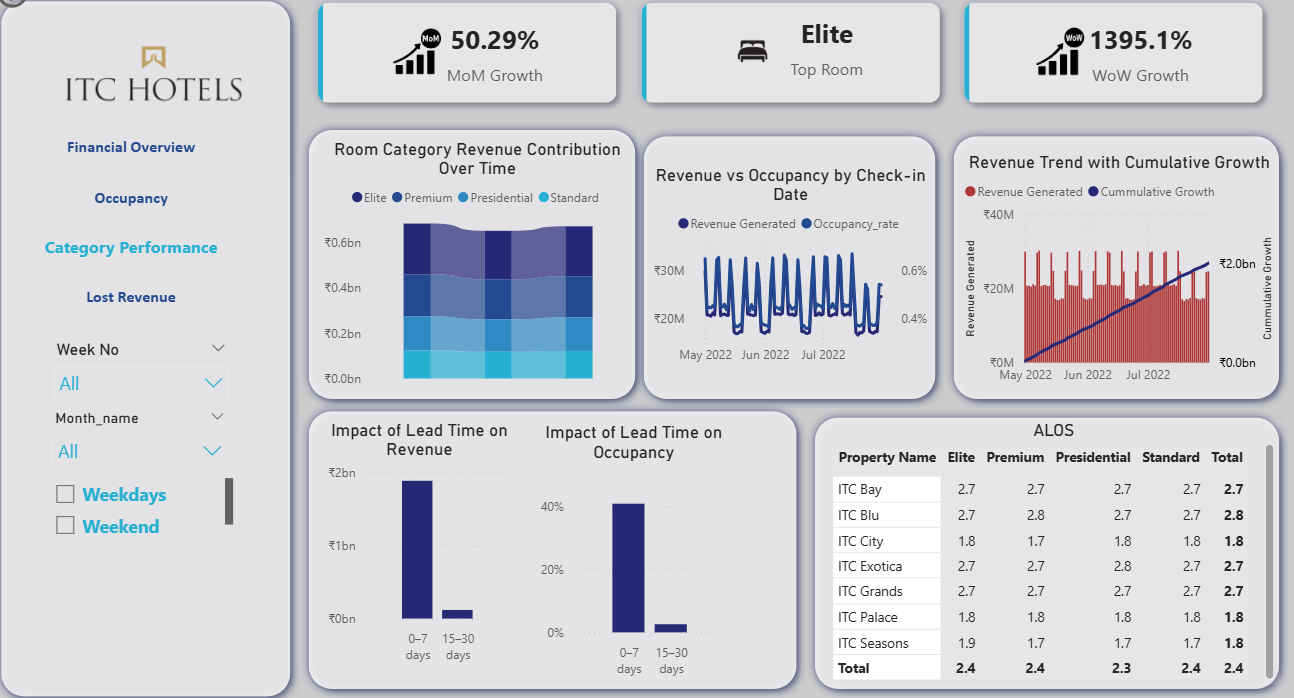

What the dashboard file says about the page in this screenshot:
{"tool":"powerbi","page":{"name":"Category Performance","canvas":[1280,720],"ordinal":2},"visuals":[{"type":"shape","box":[630.7,152.1,304.3,276.1],"z":0},{"type":"shape","box":[935,152.1,337.4,276.1],"z":1000},{"type":"shape","box":[798.8,428.2,473.6,284.7],"z":2000},{"type":"shape","box":[301.8,422.1,496.9,290.8],"z":3000},{"type":"shape","box":[301.8,146,338.7,282.2],"z":4000},{"type":"shape","box":[0,19.6,301.8,700.6],"z":5000},{"type":"actionButton","box":[0,0,100,40],"z":7000},{"type":"slicer","fields":{"Values":["Calendar.day_type"]},"box":[50.3,492,191.4,67.5],"z":8000},{"type":"slicer","fields":{"Values":["Calendar.Month_name"]},"box":[49.1,424.5,191.4,67.5],"z":9000},{"type":"slicer","fields":{"Values":["Calendar.Week_no"]},"box":[50.3,357.1,191.4,67.5],"z":10000},{"type":"pageNavigator","box":[22.1,152.1,229.4,186.5],"z":11000},{"type":"image","box":[49.1,0,220.9,198.8],"z":12000},{"type":"lineChart","title":"Revenue vs Occupancy by Check-in Date","fields":{"Category":["Bookings.check_in_date"],"Y":["Sum(Bookings.revenue_generated)"],"Y2":["dax.Occupancy_rate"]},"box":[644.2,189,279.8,204.9],"z":16000},{"type":"columnChart","title":"Impact of Lead Time on Revenue","fields":{"Y":["Sum(Bookings.revenue_generated)"],"Category":["Bookings.LeadTime_Bucket"]},"box":[325.2,439.3,189,246.6],"z":17000},{"type":"lineClusteredColumnComboChart","title":"Revenue Trend with Cumulative Growth","fields":{"Category":["Calendar.Date"],"Y2":["dax.running_total"],"Y":["dax.Revenue_generated"]},"box":[949.7,176.7,314.1,236.8],"z":18000},{"type":"ribbonChart","title":"Room Category Revenue Contribution Over Time","fields":{"Series":["rooms.room_class"],"Y":["Sum(Bookings.revenue_generated)"],"Category":["Calendar.Month_name"]},"box":[321.2,163.8,310,250],"z":19000},{"type":"columnChart","title":"Impact of Lead Time on Occupancy","fields":{"Y":["dax.Occupancy_rate"],"Category":["Bookings.LeadTime_Bucket"]},"box":[533.7,441.7,192.6,257.7],"z":20000},{"type":"pivotTable","title":"ALOS","fields":{"Columns":["rooms.room_class"],"Values":["dax.ALOS"],"Rows":["Hotels.property_name"]},"box":[823.3,439.3,440.5,260.1],"z":21000},{"type":"cardVisual","fields":{"Data":["dax.mom_growth","dax.top_room_class","dax.wow_growth"]},"box":[303.1,13.5,962,132.5],"z":22000}]}

Visuals, with their boxes on the page's 1280x720 design canvas (x1, y1, x2, y2). These are canvas units, not pixel positions in the 1294x698 screenshot, which may show the page scaled, cropped or inside an application window:
shape: box=[631, 152, 935, 428]
shape: box=[935, 152, 1272, 428]
shape: box=[799, 428, 1272, 713]
shape: box=[302, 422, 799, 713]
shape: box=[302, 146, 640, 428]
shape: box=[0, 20, 302, 720]
actionButton: box=[0, 0, 100, 40]
slicer - Calendar.day_type: box=[50, 492, 242, 560]
slicer - Calendar.Month_name: box=[49, 424, 240, 492]
slicer - Calendar.Week_no: box=[50, 357, 242, 425]
pageNavigator: box=[22, 152, 252, 339]
image: box=[49, 0, 270, 199]
"Revenue vs Occupancy by Check-in Date" lineChart: box=[644, 189, 924, 394]
"Impact of Lead Time on Revenue" columnChart: box=[325, 439, 514, 686]
"Revenue Trend with Cumulative Growth" lineClusteredColumnComboChart: box=[950, 177, 1264, 414]
"Room Category Revenue Contribution Over Time" ribbonChart: box=[321, 164, 631, 414]
"Impact of Lead Time on Occupancy" columnChart: box=[534, 442, 726, 699]
"ALOS" pivotTable: box=[823, 439, 1264, 699]
cardVisual - dax.mom_growth x dax.top_room_class: box=[303, 14, 1265, 146]
